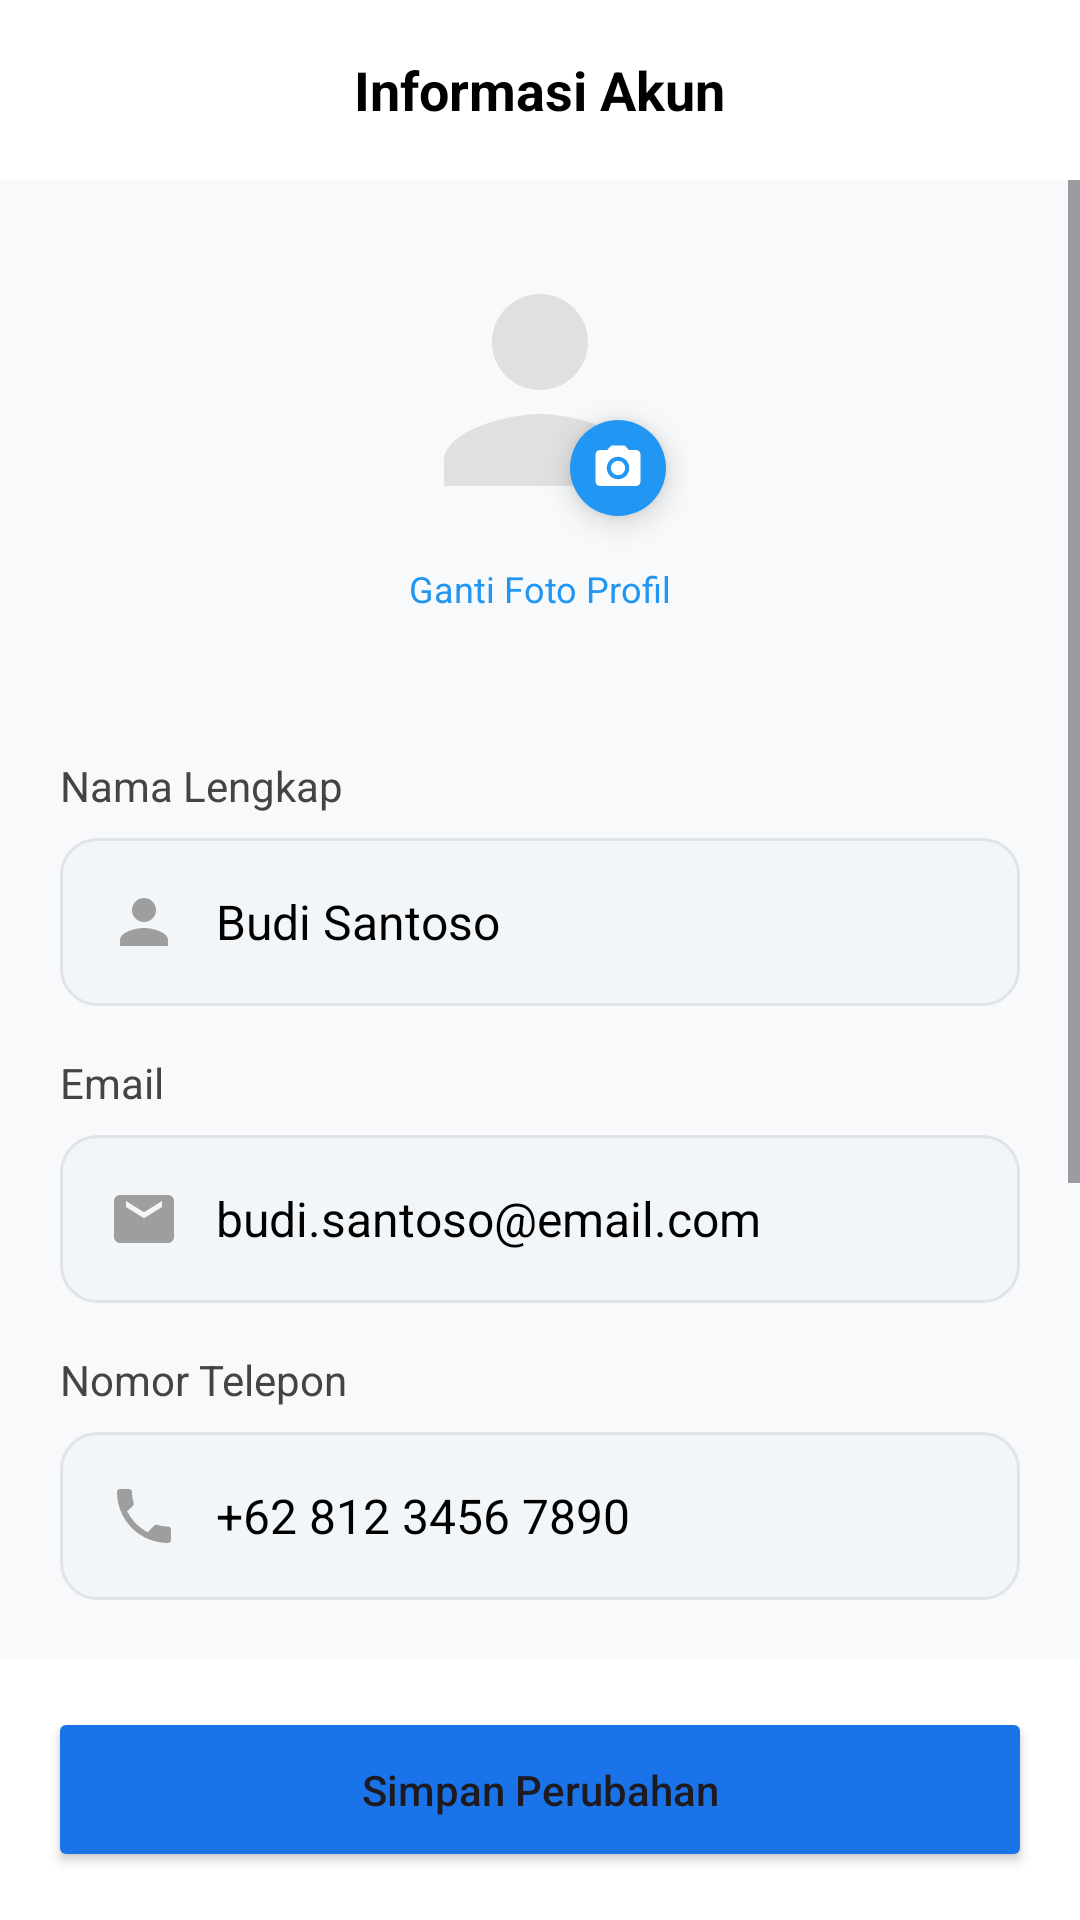

Icon click points for this 1080w x 1920h phone screenshot, format (x=x, y=y):
camera: (x=606, y=467)
